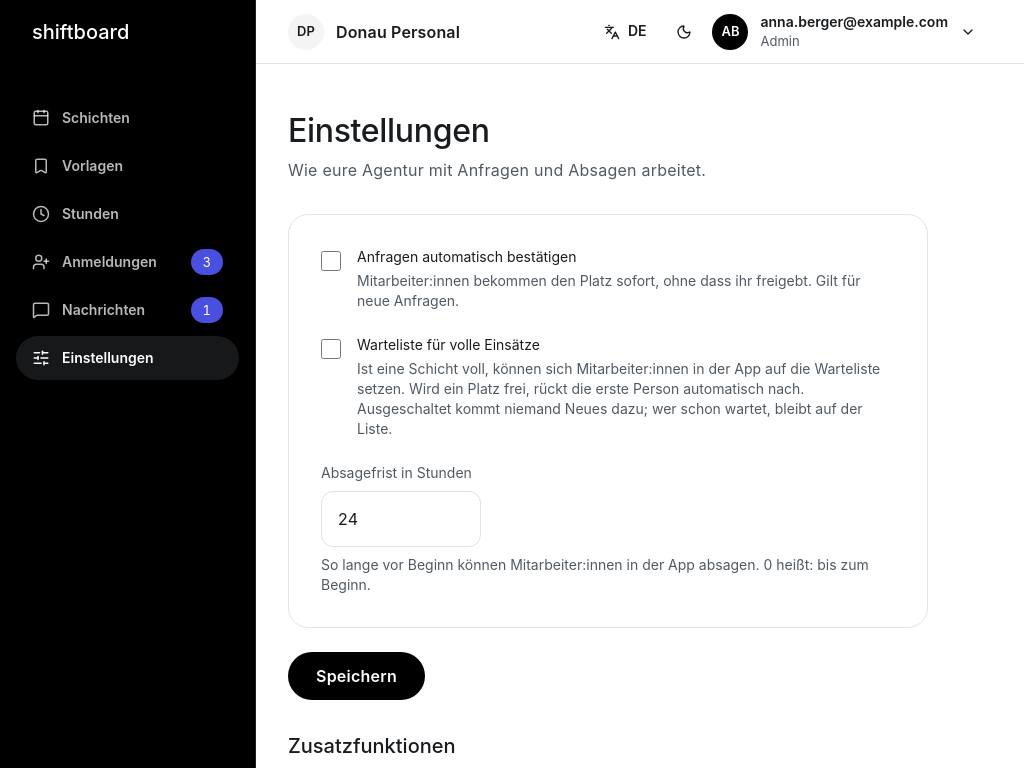
Test case: agency settings › lets an admin switch on auto-confirm and change the deadline
The image size is (1024, 768).
Click the checkbox labelled "Anfragen automatisch bestätigen".
click(331, 261)  # box [321,251,341,271]
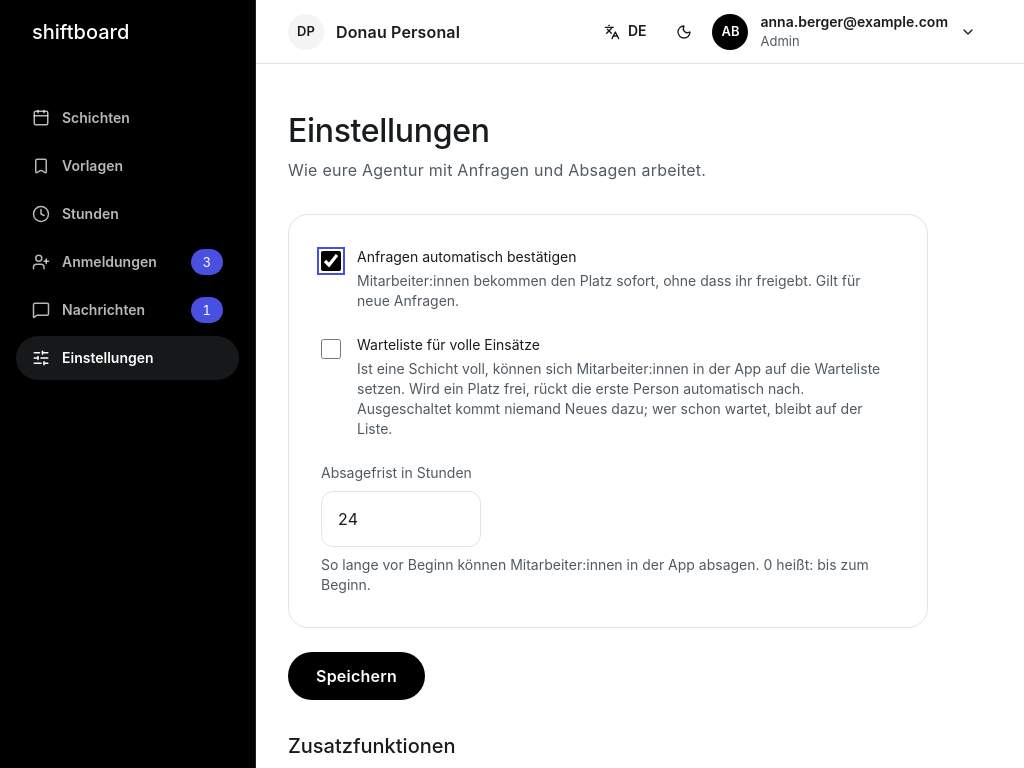
Replace the text in the number field labelled "Absagefrist in Stunden" with "48" at {"x": 401, "y": 519}, box [321,491,481,547]
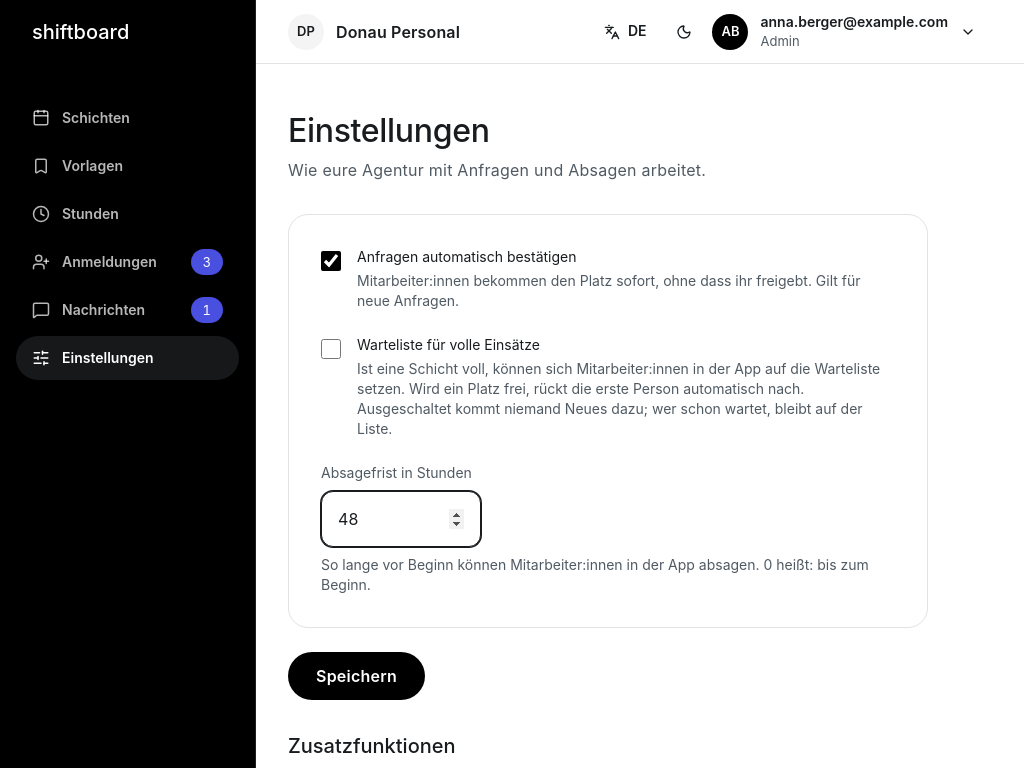
Click the button "Speichern".
click(357, 676)  # box [288,652,425,700]
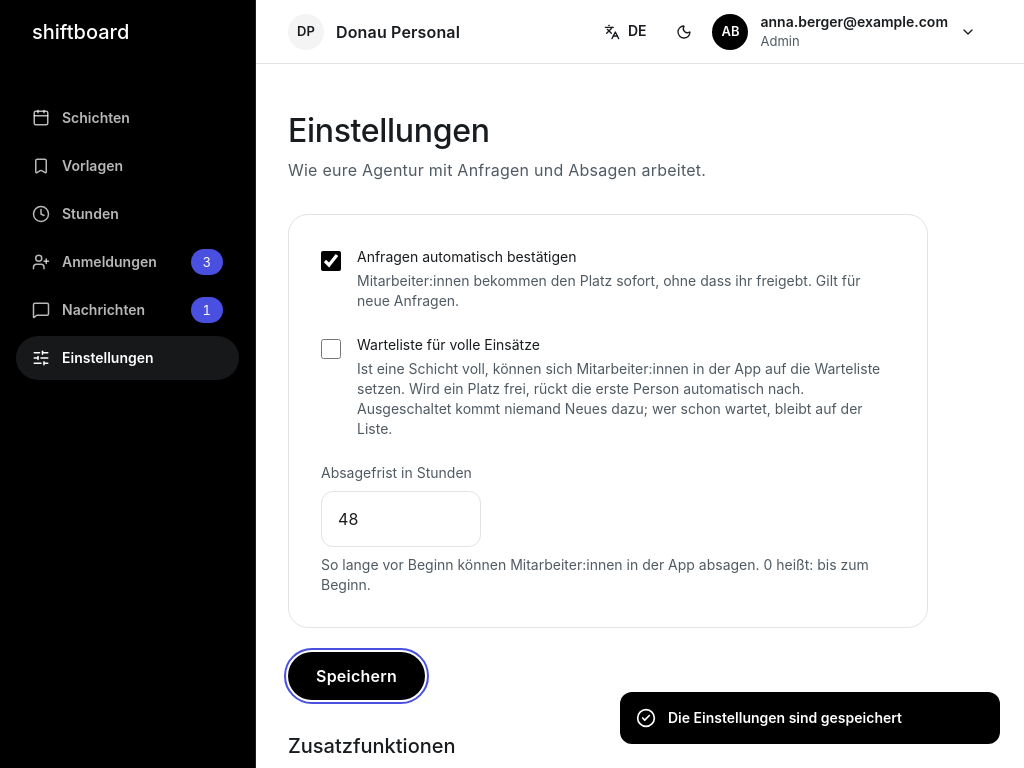
Now the text "Die Einstellungen sind gespeichert" is shown, box [668,708,902,728]
